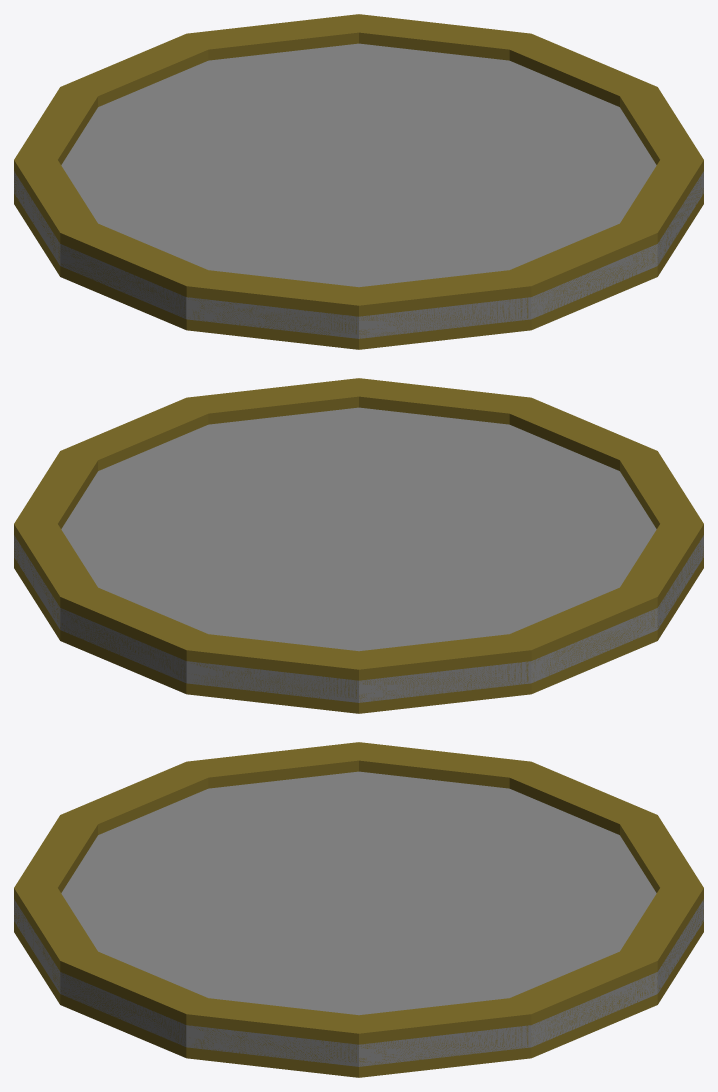
File: coin (1).fbx
3 views of the same model, one above another, from view 1: azimuth 30°, elevation 25°; view 2: azimuth 150°, elevation 25°; view 3: azimuth 270°, elevation 25° (orthographic).
Visible parts, largest first — view 1: Cylinder; view 2: Cylinder; view 3: Cylinder.
Part boxes in pixels (x1=…): Cylinder: x1=14, y1=14, x2=703, y2=349; Cylinder: x1=14, y1=378, x2=703, y2=713; Cylinder: x1=14, y1=742, x2=703, y2=1077.
Size of the model in its own units: 200 by 14.13 by 200.
